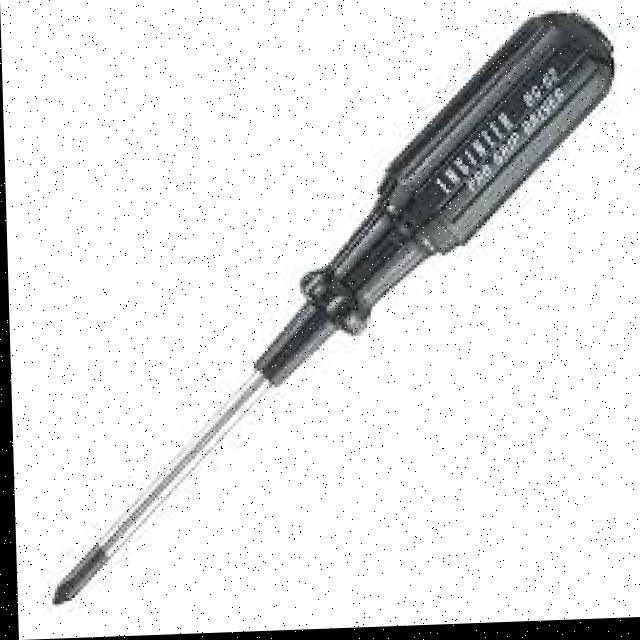Screwdriver: (48, 22, 616, 606)
